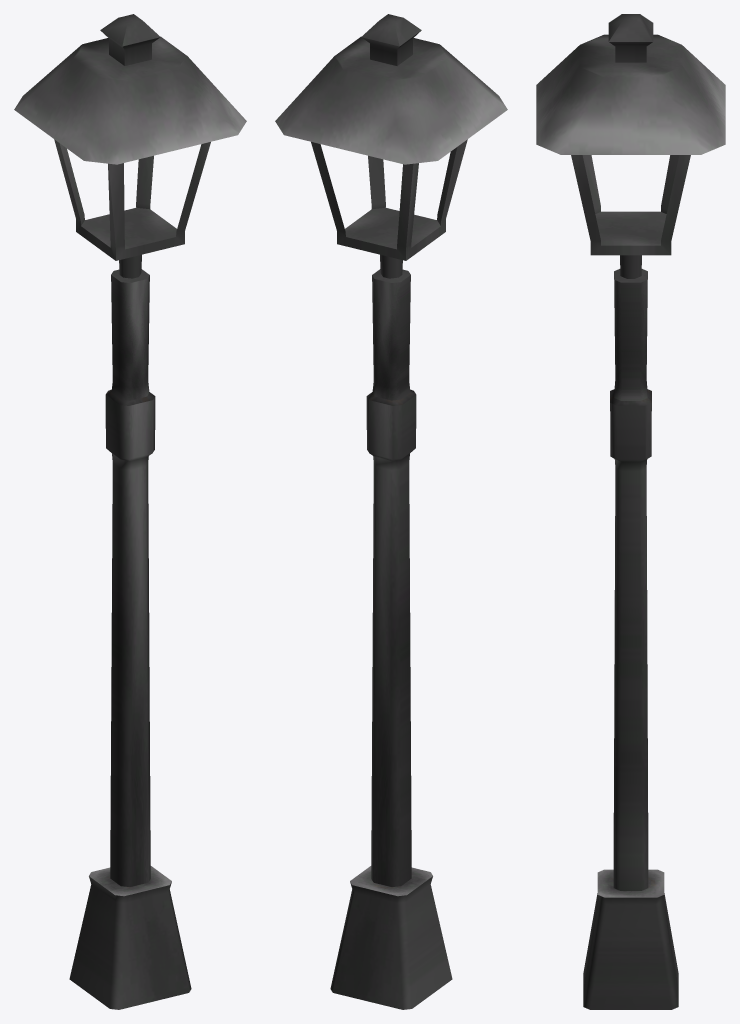
Rendered from IronStreetLampHand.fbx.
3 renders of one model, left to right at view 1: azimuth 30°, elevation 25°; view 2: azimuth 150°, elevation 25°; view 3: azimuth 270°, elevation 25°, orthographic.
Visible parts, largest first — view 1: LampPole (1); view 2: LampPole (1); view 3: LampPole (1).
Boxes of the visible parts, <box> form: LampPole (1): <box>14,14,246,1009</box>; LampPole (1): <box>275,14,507,1009</box>; LampPole (1): <box>536,14,725,1009</box>.
Size of the model in its own units: 0.2729 by 1.54 by 0.2729.
